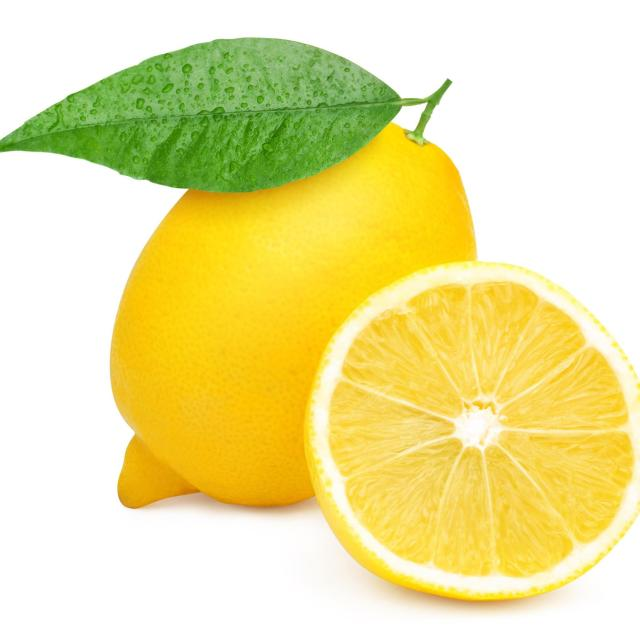lemon: (299, 258, 640, 607)
